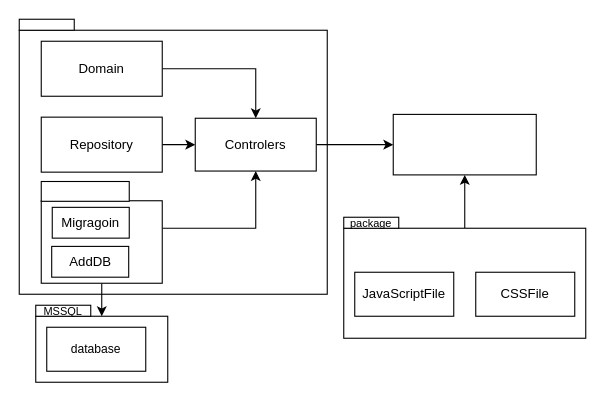
The diagram is 605 pixels wide and 402 high, and some of its shapes have lost their labels. The shapes that lost their labels are listed below. From the top down, each one's box as (x1, y1, x2, y2) in pixels, then its label:
(392, 113, 536, 175): ViewInterfaсe
(40, 180, 129, 201): BDMAnager
